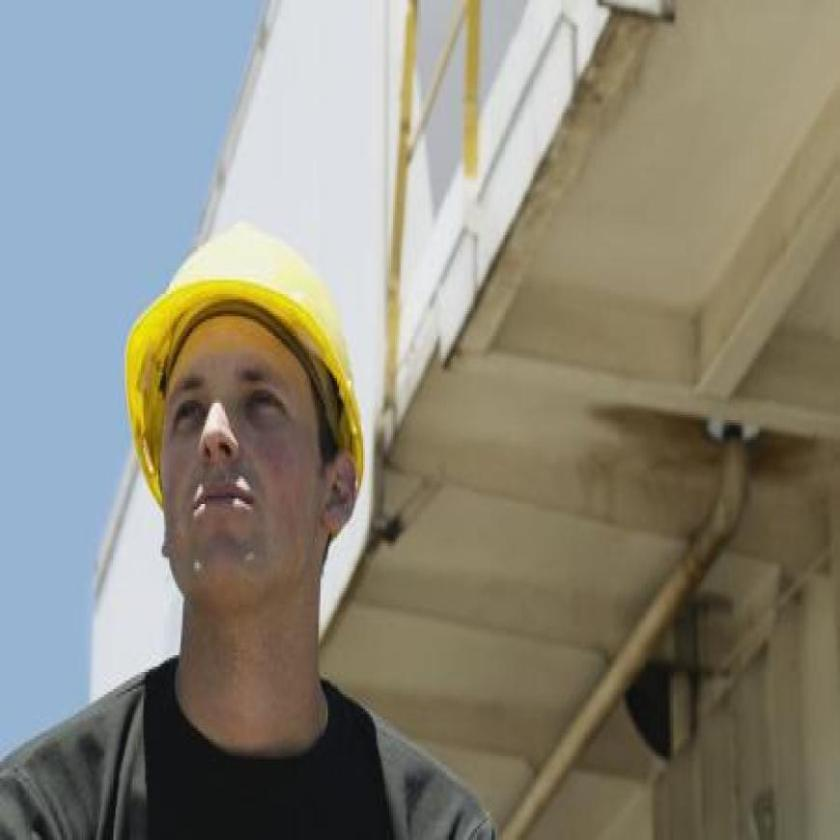Con_casco: (108, 195, 377, 692)
